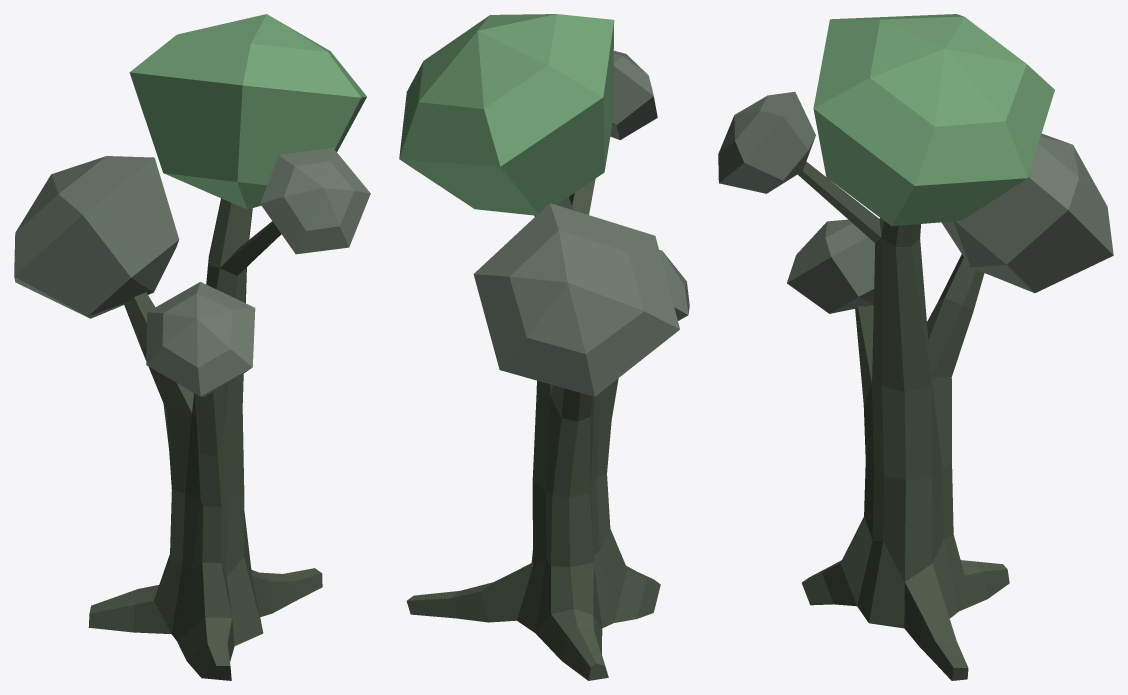
The model's file is tree2.fbx.
The picture shows the model from 3 angles, left to right: view 1: azimuth 30°, elevation 25°; view 2: azimuth 150°, elevation 25°; view 3: azimuth 270°, elevation 25°; orthographic projection. The views are drawn at different scales.
Parts seen in each view (by area): view 1: polySurface12; view 2: polySurface12; view 3: polySurface12.
Boxes of the visible parts, x1,y1,x2,y2 form: polySurface12: [14, 14, 370, 680]; polySurface12: [399, 14, 689, 680]; polySurface12: [718, 14, 1113, 680].
Size of the model in its own units: 178 by 324 by 190.
